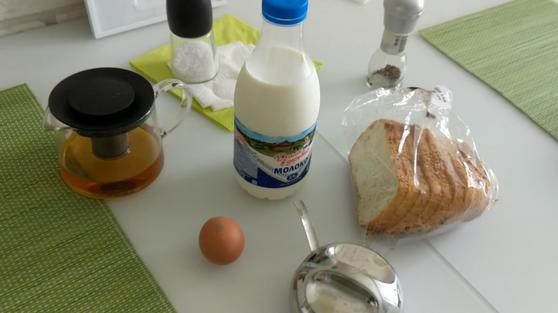egg: (199, 217, 247, 266)
milk: (234, 5, 318, 202)
white_bread: (347, 120, 490, 237)
